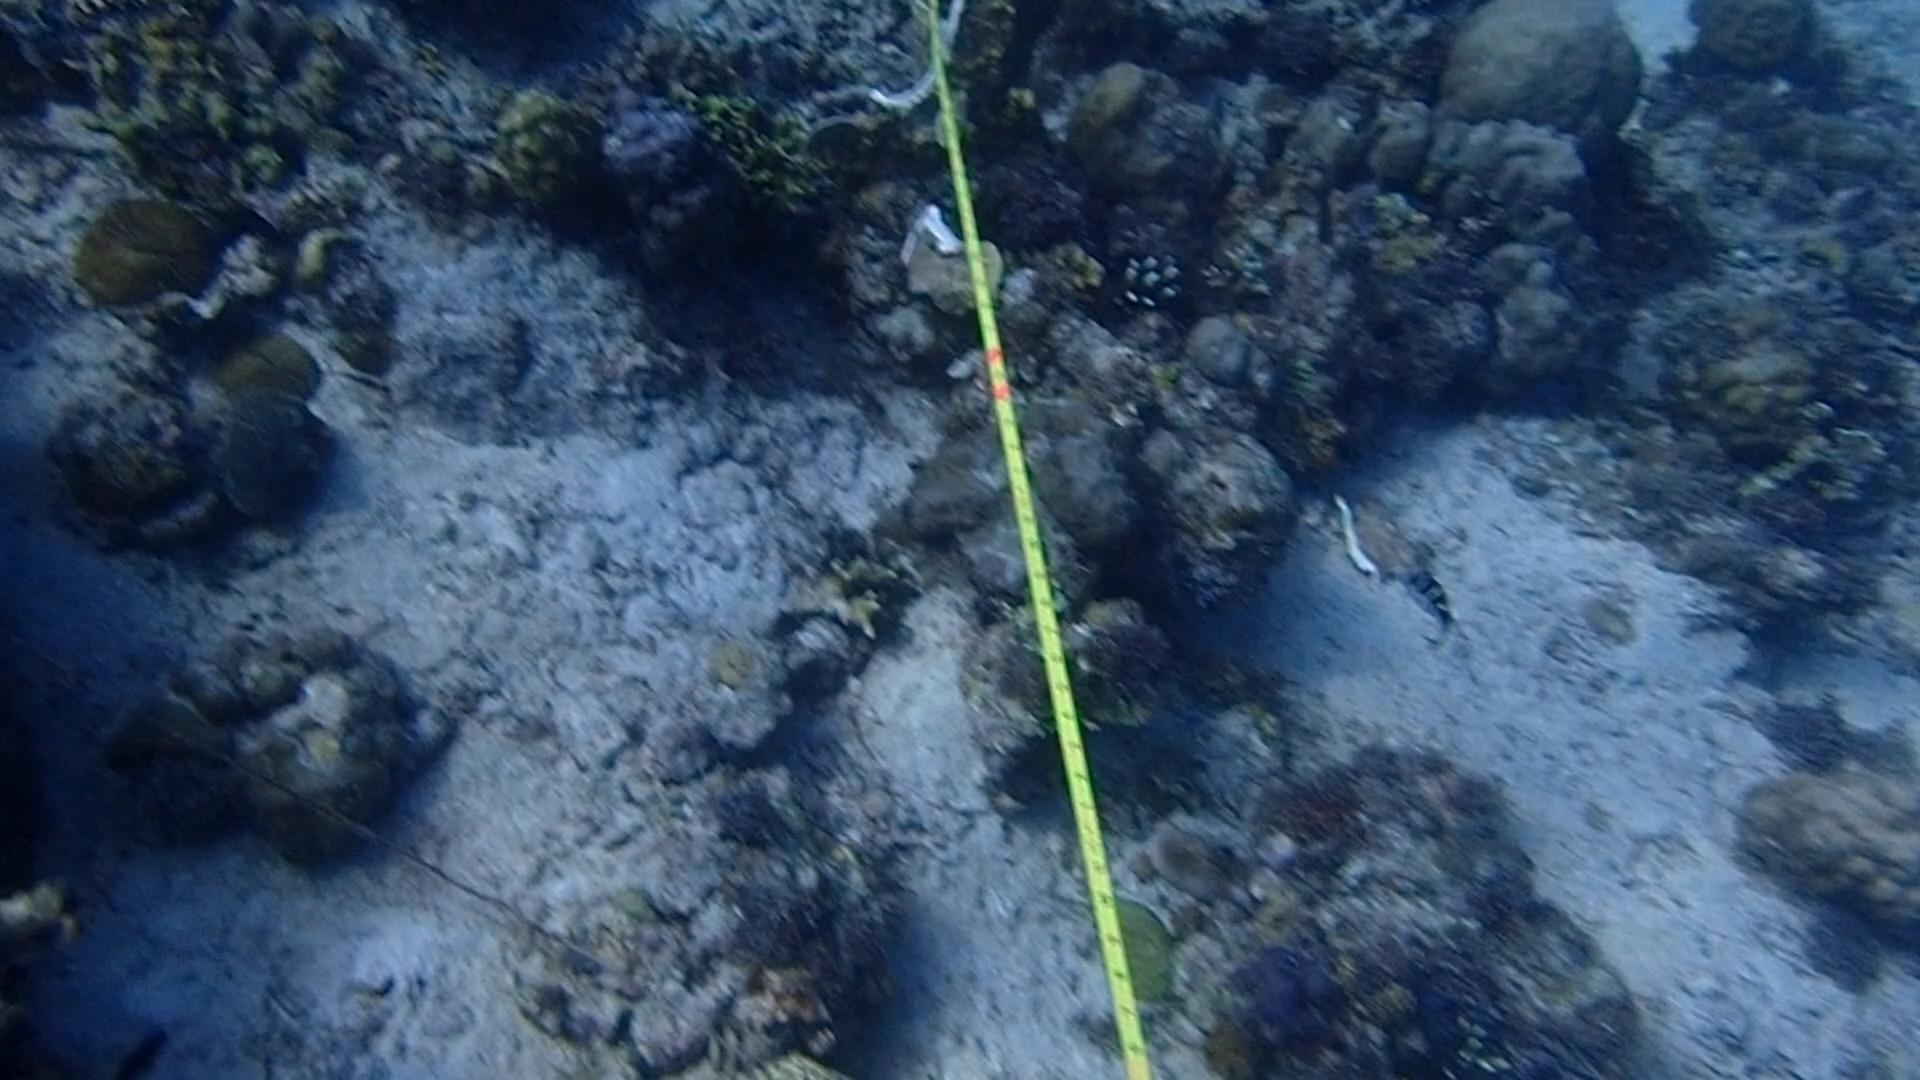Striped Fish: (1400, 555, 1474, 649)
